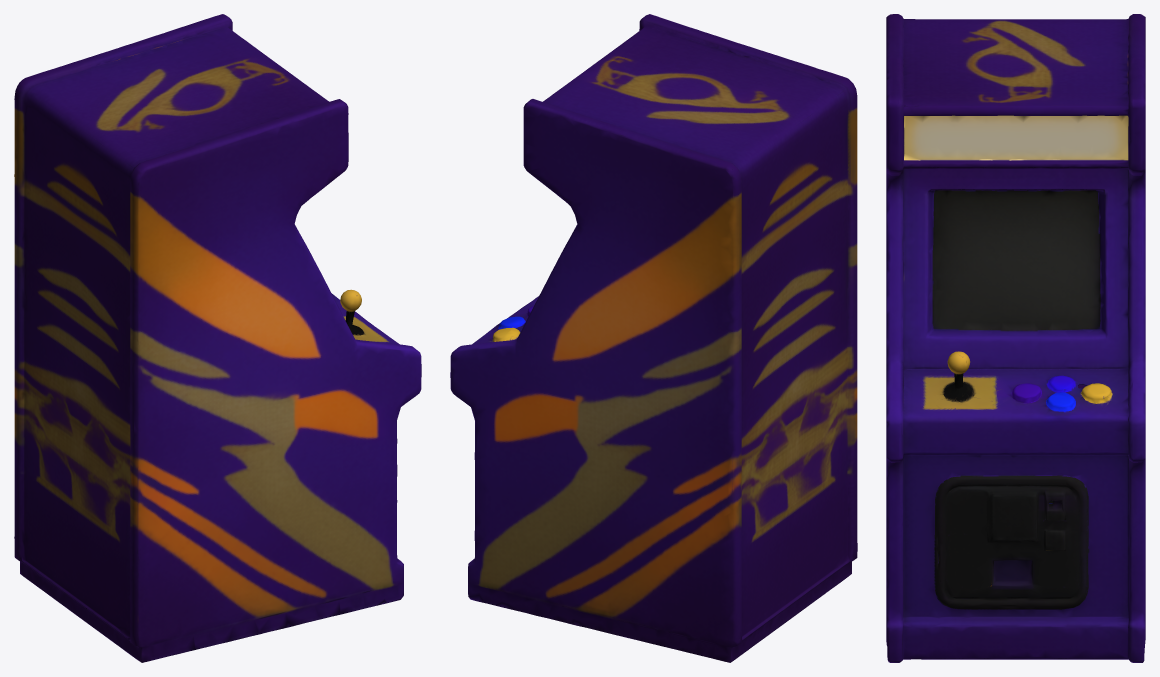
File: 06_arcade_06_upright_neon_purple.glb
The picture shows the model from 3 angles, left to right: view 1: azimuth 30°, elevation 25°; view 2: azimuth 150°, elevation 25°; view 3: azimuth 270°, elevation 25°; orthographic projection. The views are drawn at different scales.
Visible parts, largest first — view 1: world; view 2: world; view 3: world.
Boxes of the visible parts, x1,y1,x2,y2 form: world: [14, 14, 421, 662]; world: [450, 14, 857, 662]; world: [886, 14, 1145, 662].
Size of the model in its own units: 0.5894 by 1 by 0.4406.
Materials: 1 (1 with a texture image).
